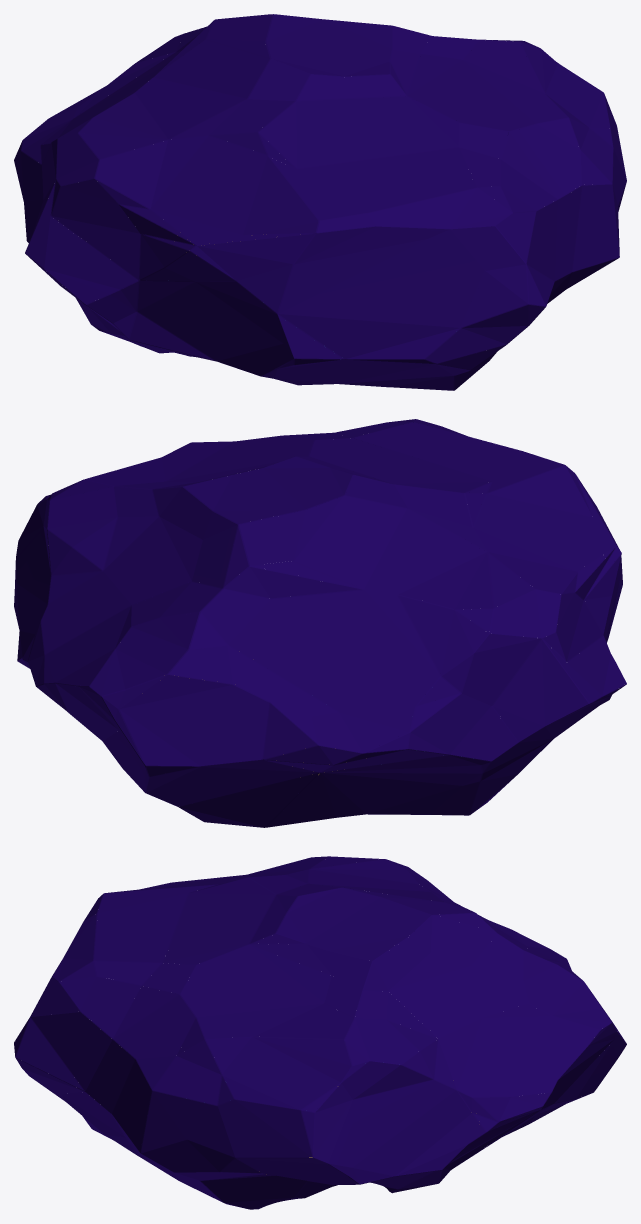
The model's file is python.glb.
The picture shows the model from 3 angles, top to bottom: view 1: azimuth 30°, elevation 25°; view 2: azimuth 150°, elevation 25°; view 3: azimuth 270°, elevation 25°; orthographic projection. The views are drawn at different scales.
Parts seen in each view (by area): view 1: Cube.007; view 2: Cube.007; view 3: Cube.007.
Boxes of the visible parts, x1,y1,x2,y2 form: Cube.007: [14, 14, 626, 390]; Cube.007: [14, 419, 626, 827]; Cube.007: [14, 856, 626, 1209].
Size of the model in its own units: 2 by 0.9311 by 2.04.
